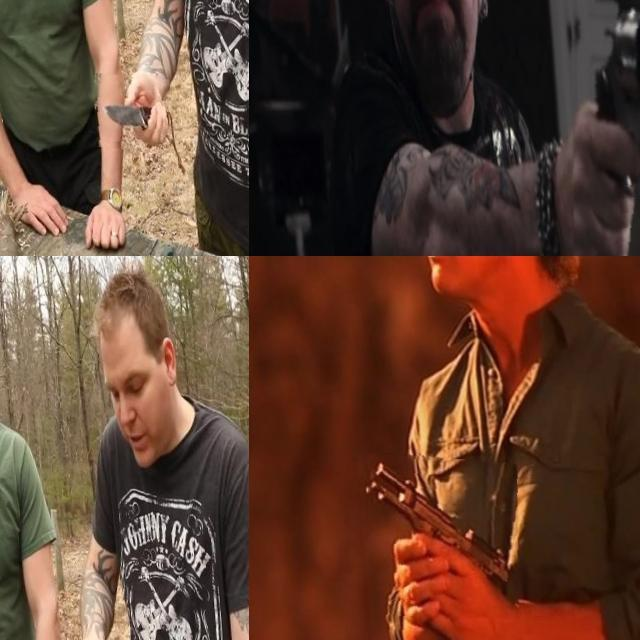-: (85, 74, 166, 151)
gun-knife-thesis - v11 Yolov5 augmented: (349, 453, 518, 640), (550, 0, 640, 256)
